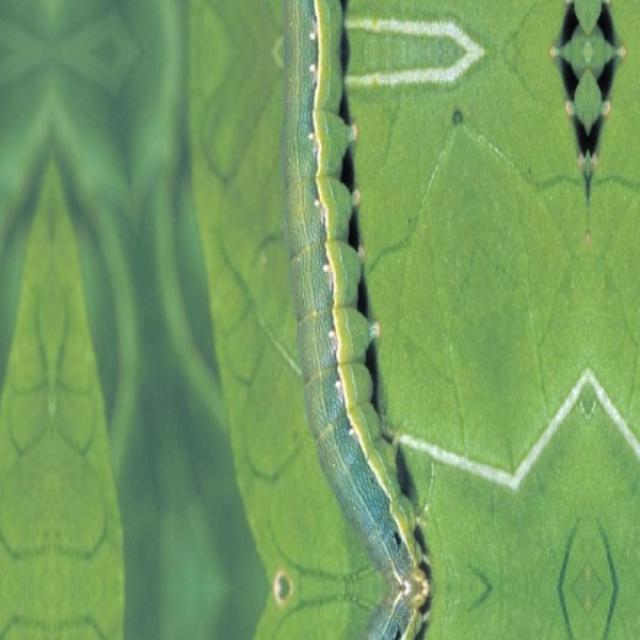armyworm: (278, 0, 431, 638)
